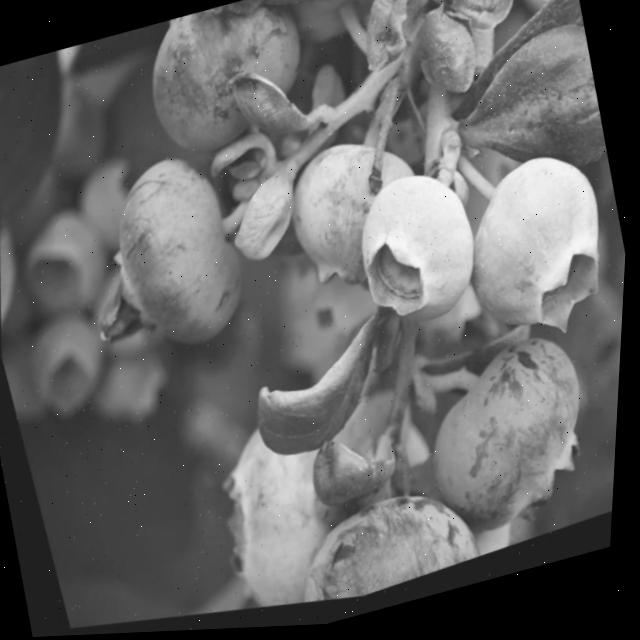RipeBlueBerry: (373, 307, 627, 585), (55, 118, 299, 392), (110, 0, 349, 202)
UnripeBlueBerry: (420, 130, 634, 387), (313, 146, 520, 370)
